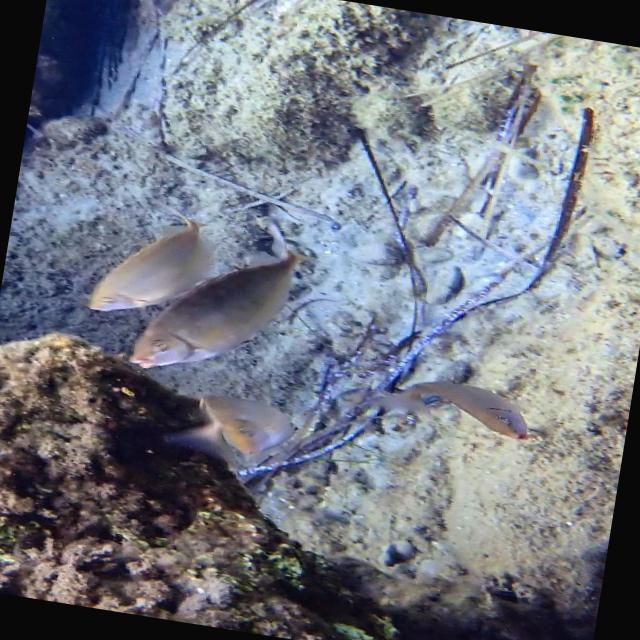Sokar Baligi: (346, 354, 556, 450)
